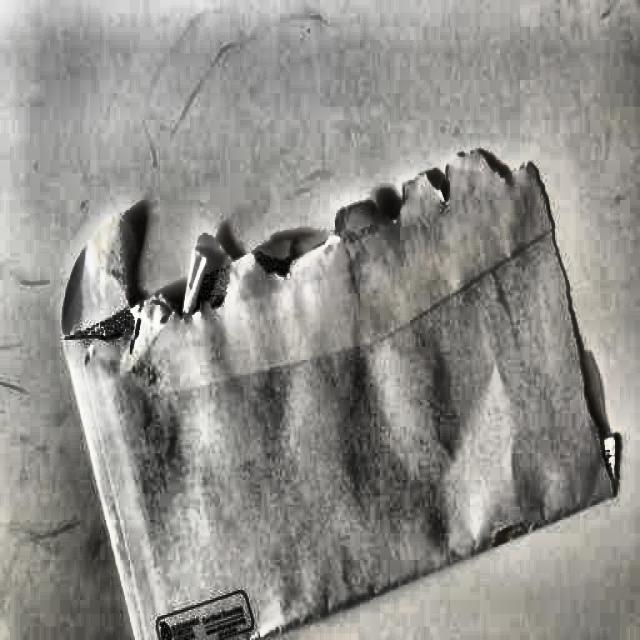paper: (54, 145, 637, 626)
